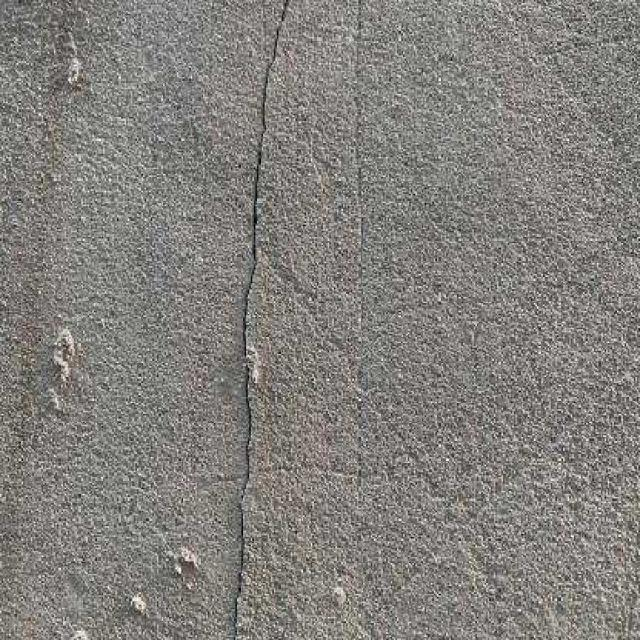D00: (233, 0, 288, 637)
